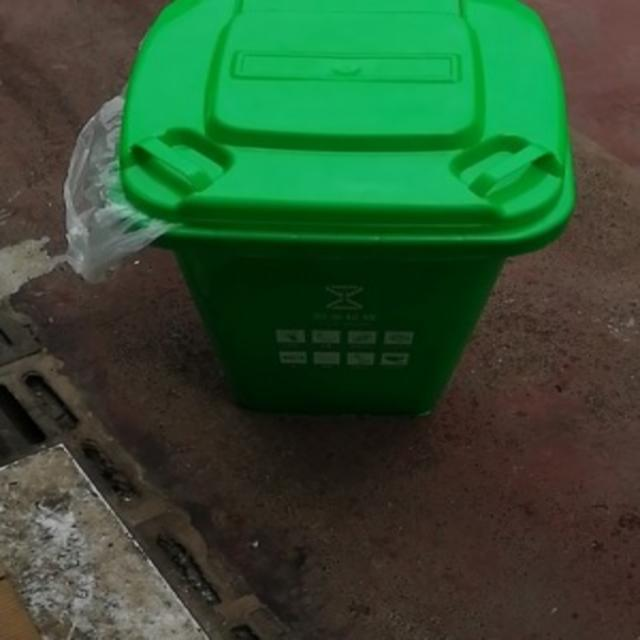ash bin: (113, 3, 576, 416)
